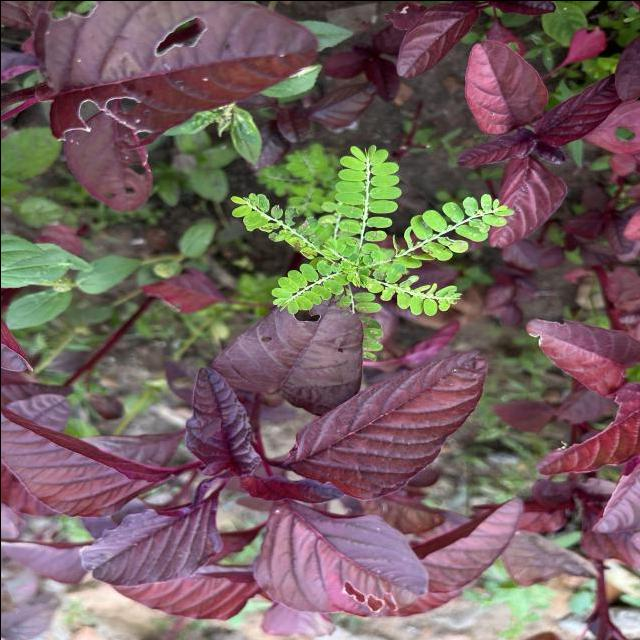Phyllanthus niruri: (407, 191, 515, 261), (332, 144, 402, 250), (227, 191, 335, 258), (268, 258, 352, 314), (376, 272, 465, 317)
